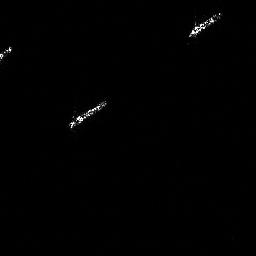ship: (67, 97, 108, 132), (186, 8, 223, 38)
